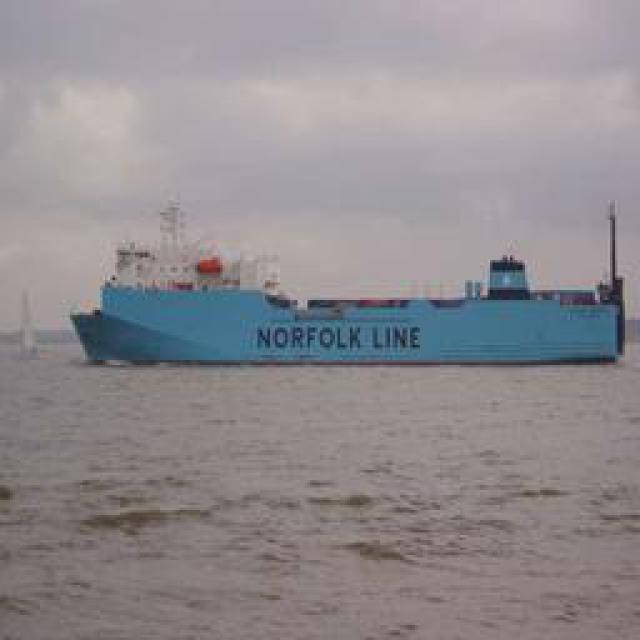Ship: (74, 227, 634, 367)
